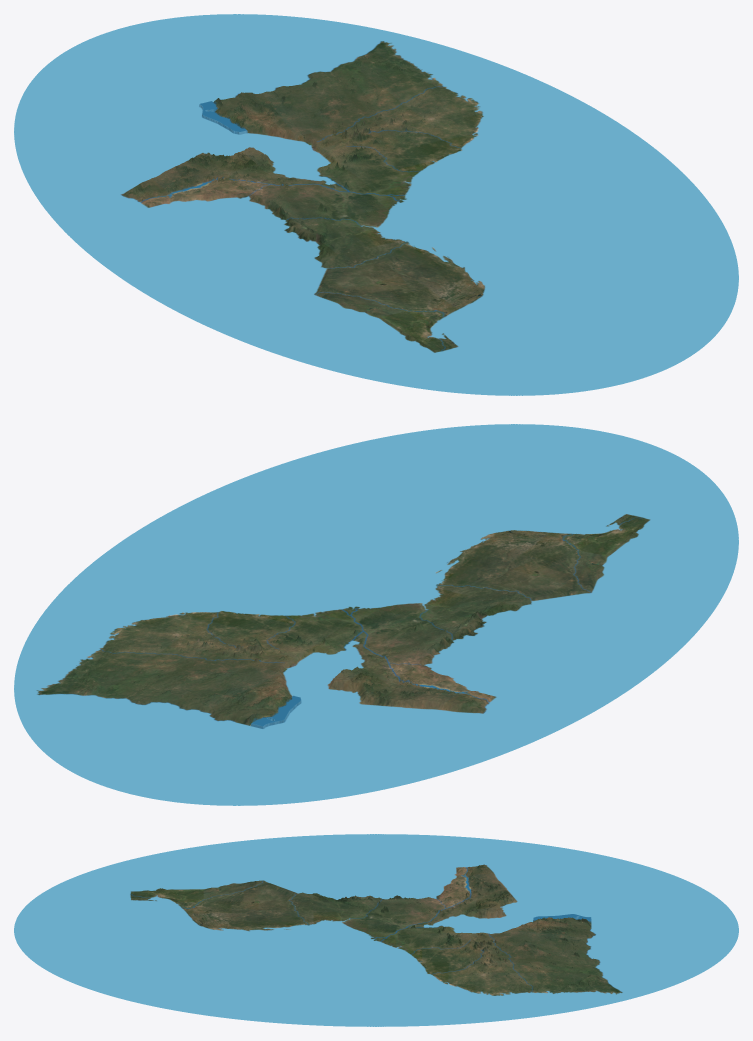
The model's file is MOZ-previa-terrain.glb.
3 renders of one model, top to bottom at view 1: azimuth 30°, elevation 25°; view 2: azimuth 150°, elevation 25°; view 3: azimuth 270°, elevation 25°, orthographic. The views are drawn at different scales.
Parts seen in each view (by area): view 1: Moçambique; view 2: Moçambique; view 3: Moçambique.
Part boxes in pixels (x1,y1,x2,y2): Moçambique: [14, 14, 738, 395]; Moçambique: [14, 424, 738, 805]; Moçambique: [14, 834, 738, 1026].
Size of the model in its own units: 1.62 by 0.0291 by 2.58.
Materials: 1 (1 with a texture image).
